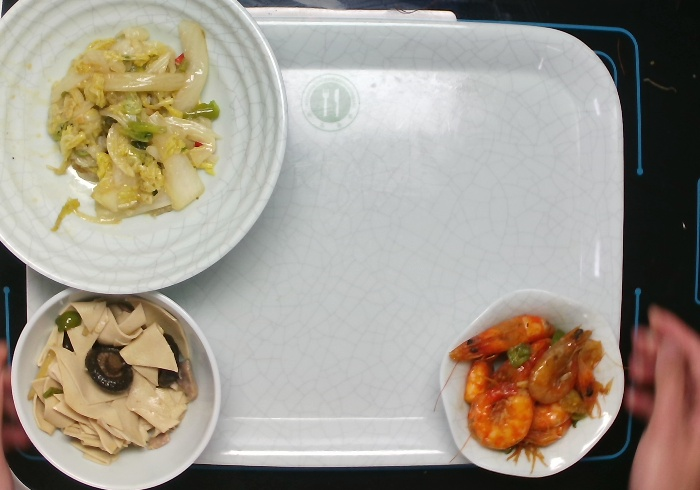JYsf-Da_Tang_Wan: (5, 7, 292, 306)
JYsf-Fan_Wan: (10, 280, 223, 487)
WCQzf-Hua_Duo_Wan: (428, 280, 631, 485)
